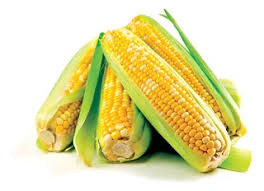milho: (50, 27, 250, 174)
